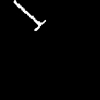double_crochet: (14, 0, 45, 30)
